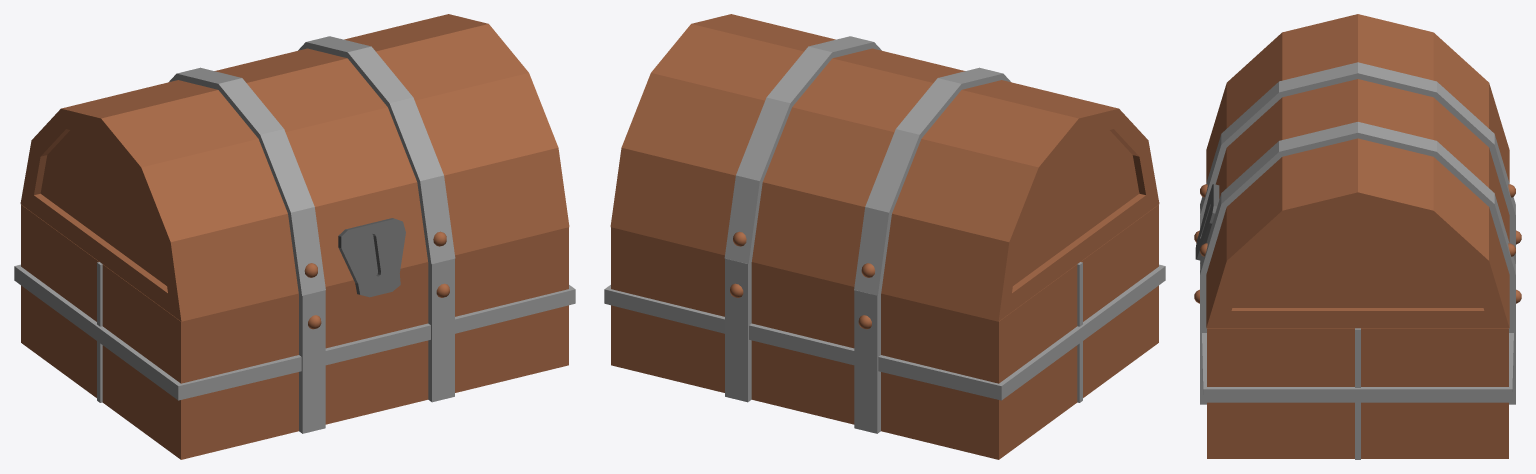
File: chest_closed.glb
3 views of the same model, side by side, from view 1: azimuth 30°, elevation 25°; view 2: azimuth 150°, elevation 25°; view 3: azimuth 270°, elevation 25° (orthographic). The views are drawn at different scales.
Parts seen in each view (by area): view 1: chest_closed; view 2: chest_closed; view 3: chest_closed.
Boxes of the visible parts, x1,y1,x2,y2 form: chest_closed: [14, 14, 575, 459]; chest_closed: [604, 14, 1165, 459]; chest_closed: [1194, 14, 1521, 459].
Bounding box in the file's own units: 0.4368 × 0.3035 × 0.3306.
1 material, 1 textured.
